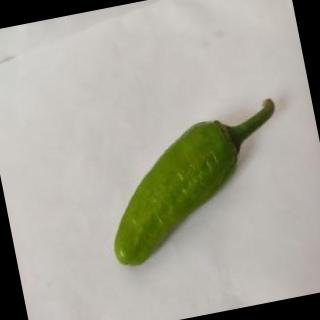Cabai Hijau: (84, 95, 303, 278)
